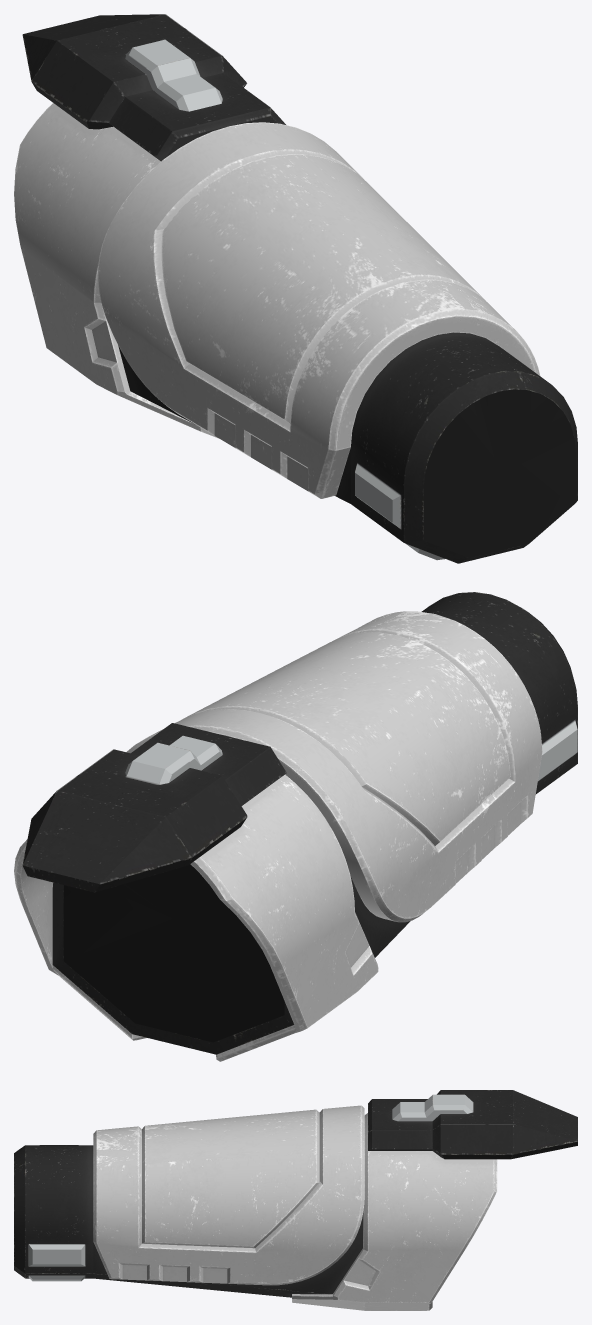
Rendered from new forearms.fbx.
3 renders of one model, top to bottom at view 1: azimuth 30°, elevation 25°; view 2: azimuth 150°, elevation 25°; view 3: azimuth 270°, elevation 25°, orthographic. The views are drawn at different scales.
Visible parts, largest first — view 1: Body4, Body1, Body8, Body11; view 2: Body4, Body1, Body8, Body11; view 3: Body4, Body8, Body1, Body11.
Boxes of the visible parts, x1,y1,x2,y2 form: Body4: (98,122,540,498); Body1: (118,332,577,563); Body8: (14,103,218,438); Body11: (22,14,285,161); Body4: (126,611,542,922); Body1: (52,592,577,1054); Body8: (14,774,378,1061); Body11: (22,723,286,892); Body4: (93,1105,364,1285); Body8: (292,1113,497,1310); Body1: (14,1145,362,1297); Body11: (368,1090,577,1159).
Size of the model in its own units: 72.93 by 77.36 by 200.
